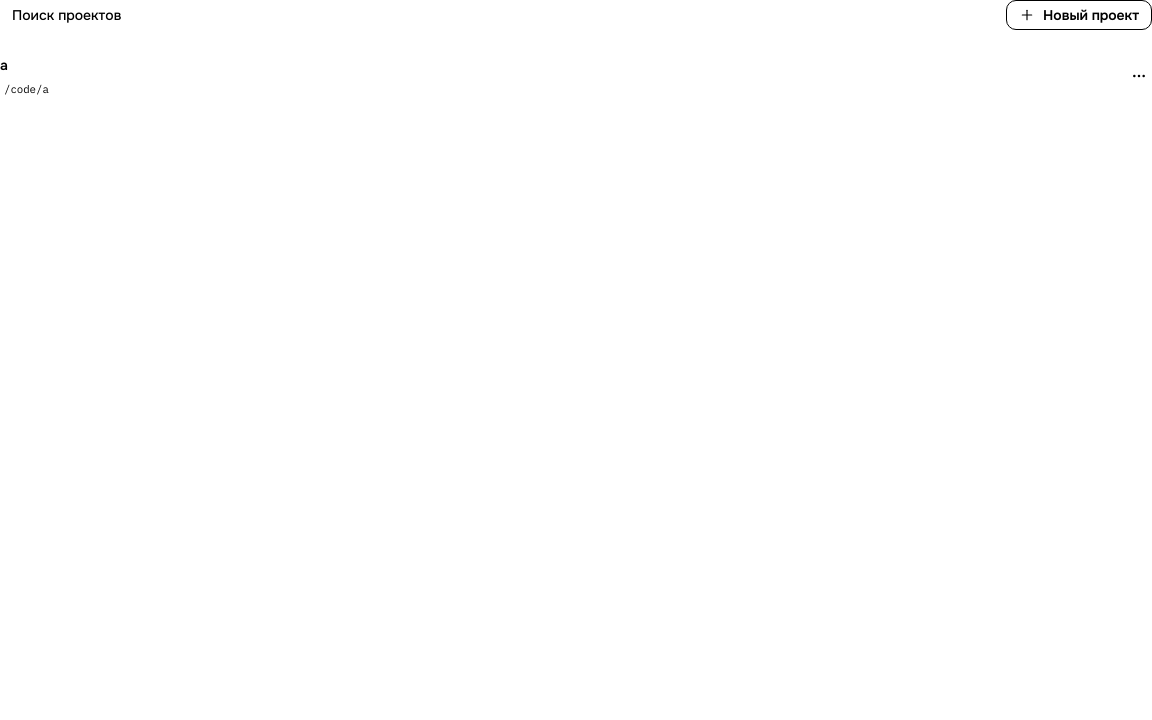
Test: ProjectsView › counts the sessions once there are any
The width and height of the screenshot is (1152, 720).
Click the button named "Действия": (1139, 76) [1126, 62, 1151, 89]
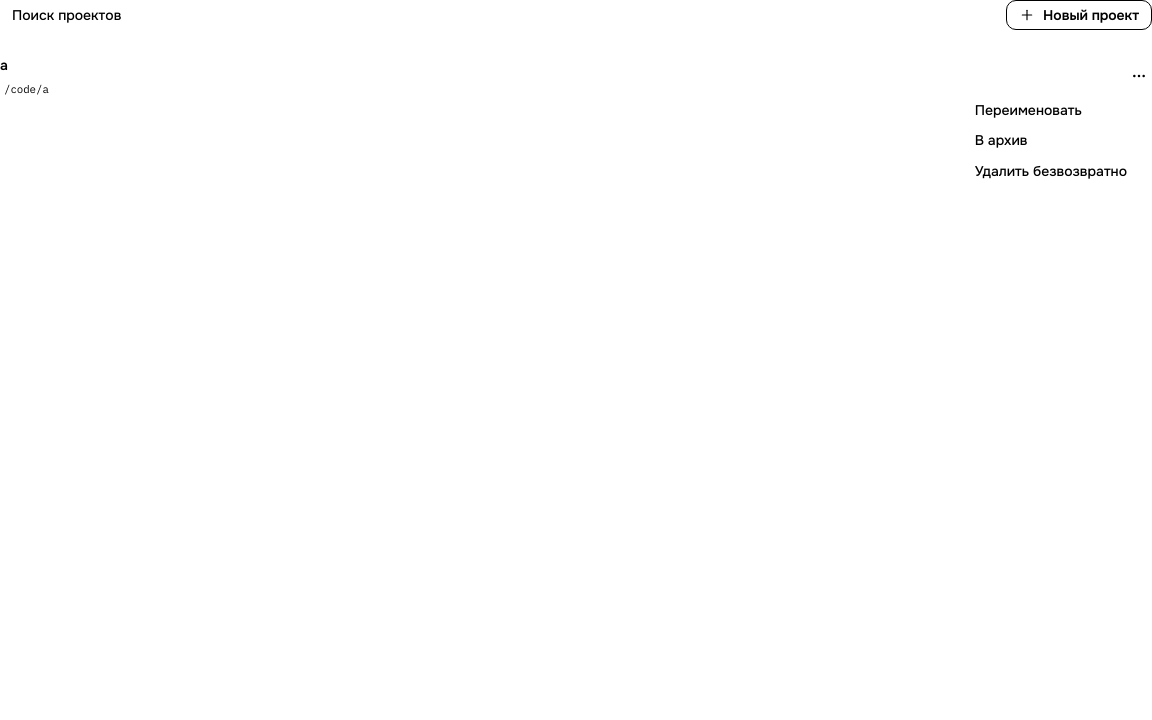
Click the menu item "Удалить безвозвратно": (1051, 171) [962, 158, 1140, 184]
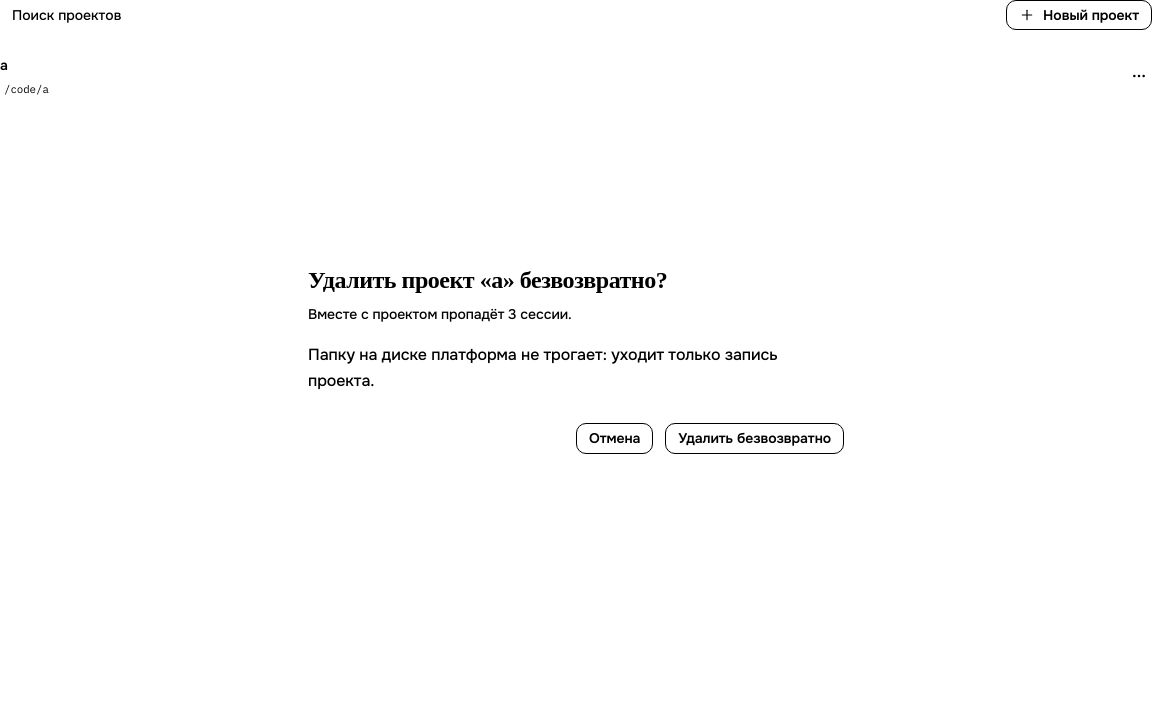
expect the text "Вместе с проектом пропадёт 3 сессии." is shown: met, box [308, 305, 572, 323]
